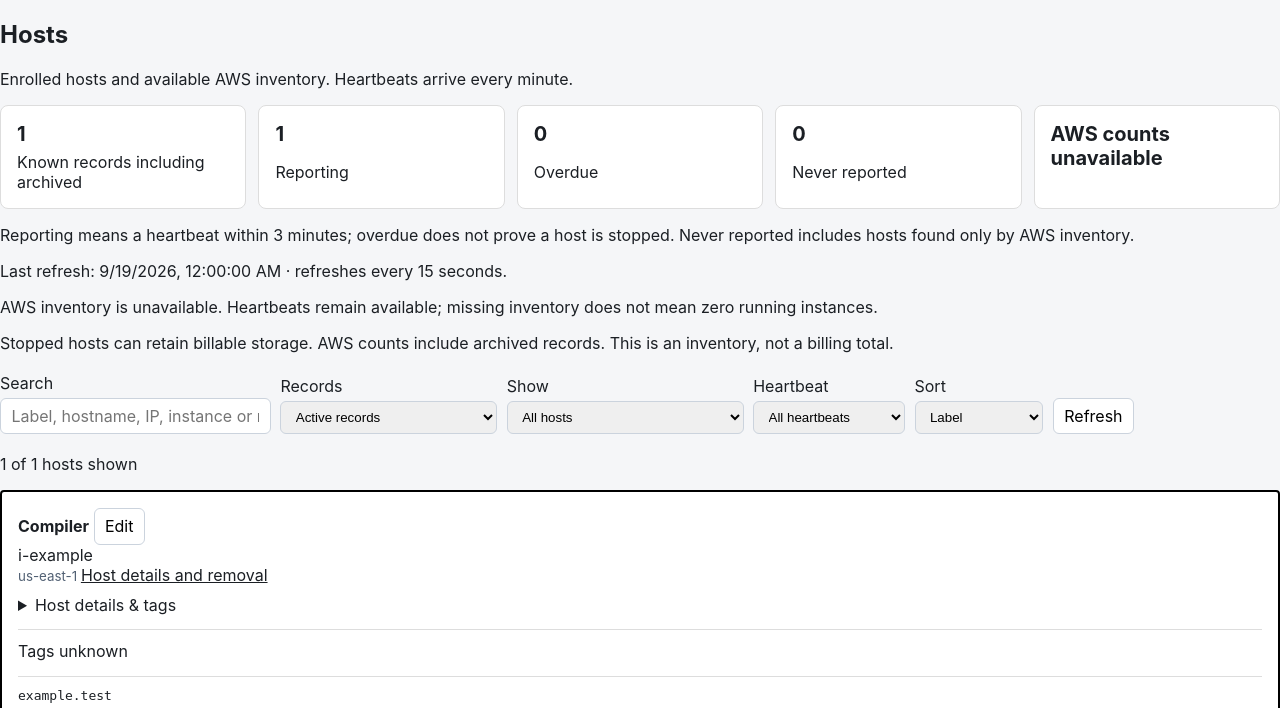
Test: unavailable inventory shows reported DNS and never classifies unknown tags as untagged
expect the text "AWS counts unavailable" is shown: met, box x1=1051 y1=122 x2=1170 y2=170
expect the text "example.test" is shown: met, box x1=18 y1=688 x2=112 y2=703
Select "AWS confirmed without Zog tags" in the dropdown labelled "Show": x=625, y=418 x1=507 y1=401 x2=744 y2=434
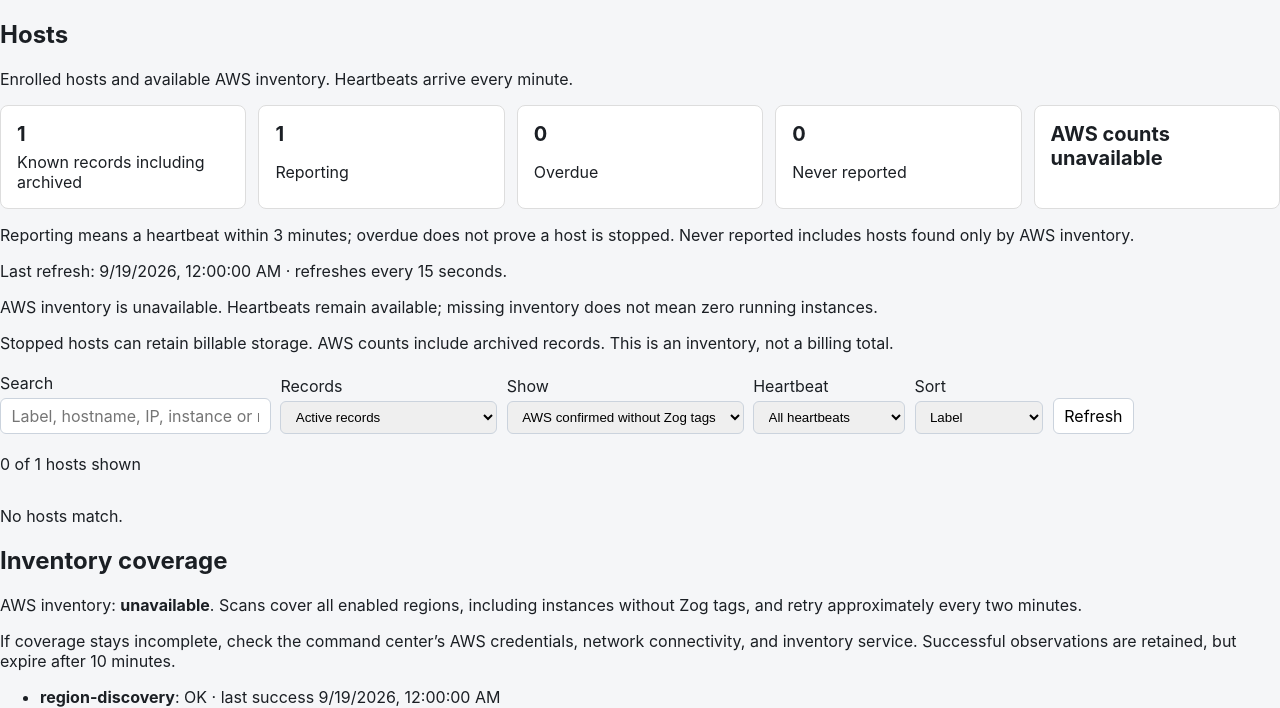
expect the text "No hosts match." is shown: met, box x1=0 y1=506 x2=123 y2=526
Select "AWS tags unknown" in the dropdown labelled "Show": x=625, y=418 x1=507 y1=401 x2=744 y2=434
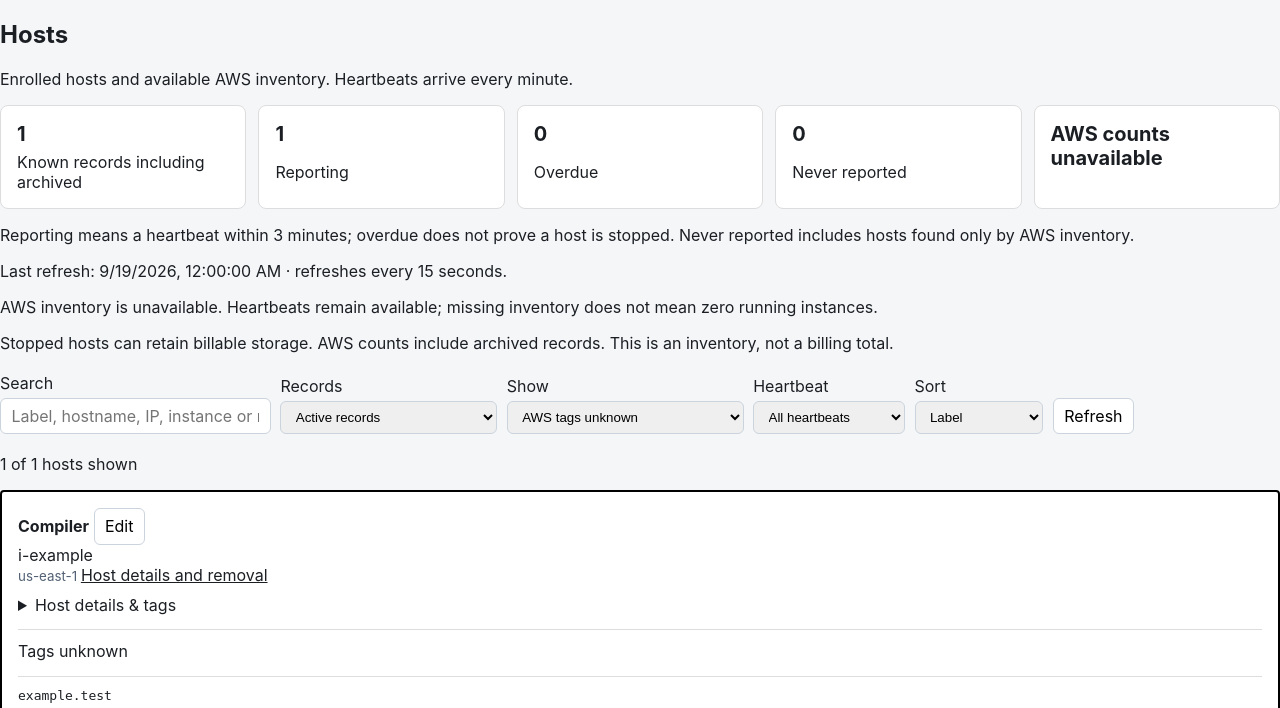
expect the text "Compiler" is shown: met, box x1=18 y1=516 x2=89 y2=536
